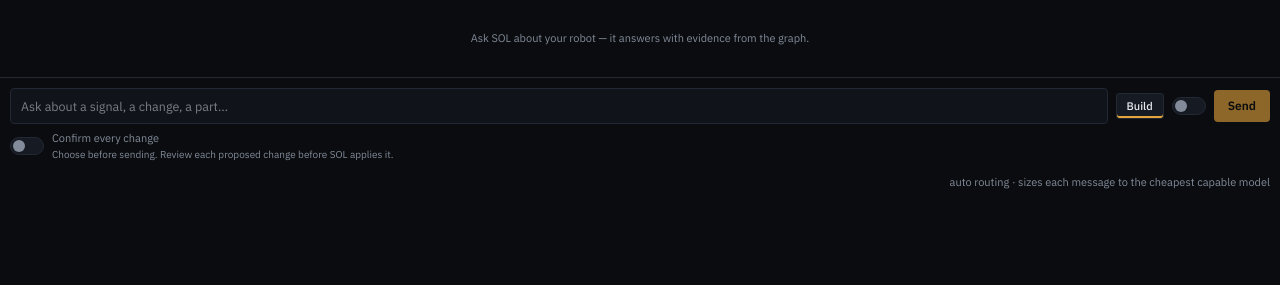
Test case: SolChat streaming render (SOL-02 obligations) › renders streamed tokens progressively, then citations in a dedicated non-link region, capped
Type "why?" into the dropdown with placeholder "Ask about a signal, a change, a part…".
click(559, 106); type("why?")  # box [10, 88, 1108, 124]
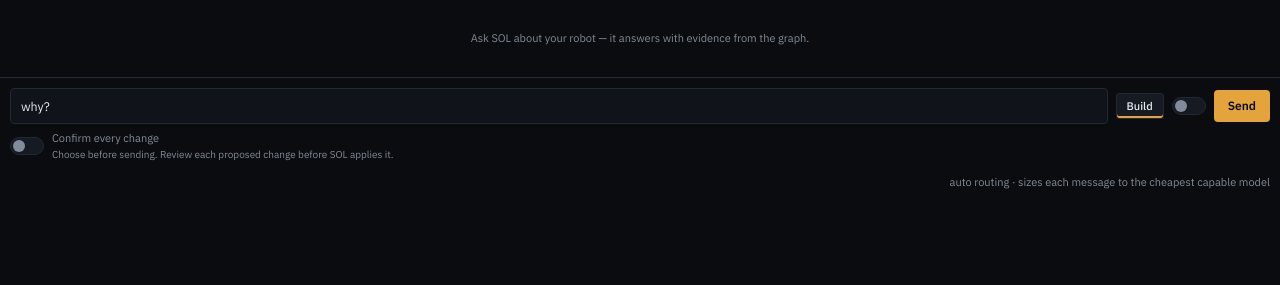
Click the button "Send".
click(1242, 106)  # box [1214, 90, 1270, 122]
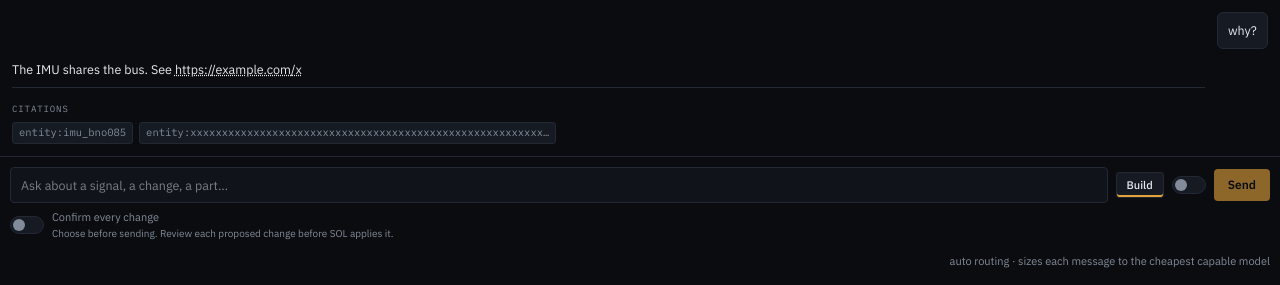
Expected: the text "The IMU shares the bus. See https://example.com/x" is shown, [12, 61, 302, 77]
Expected: the text "entity:imu_bno085" is shown, [12, 122, 133, 144]
